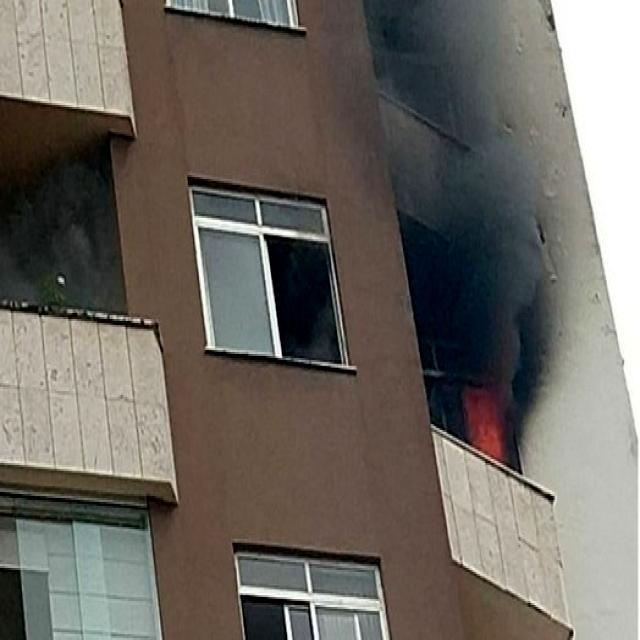Smoke: (357, 0, 590, 403)
